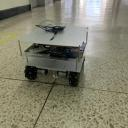cart: (16, 25, 89, 86)
